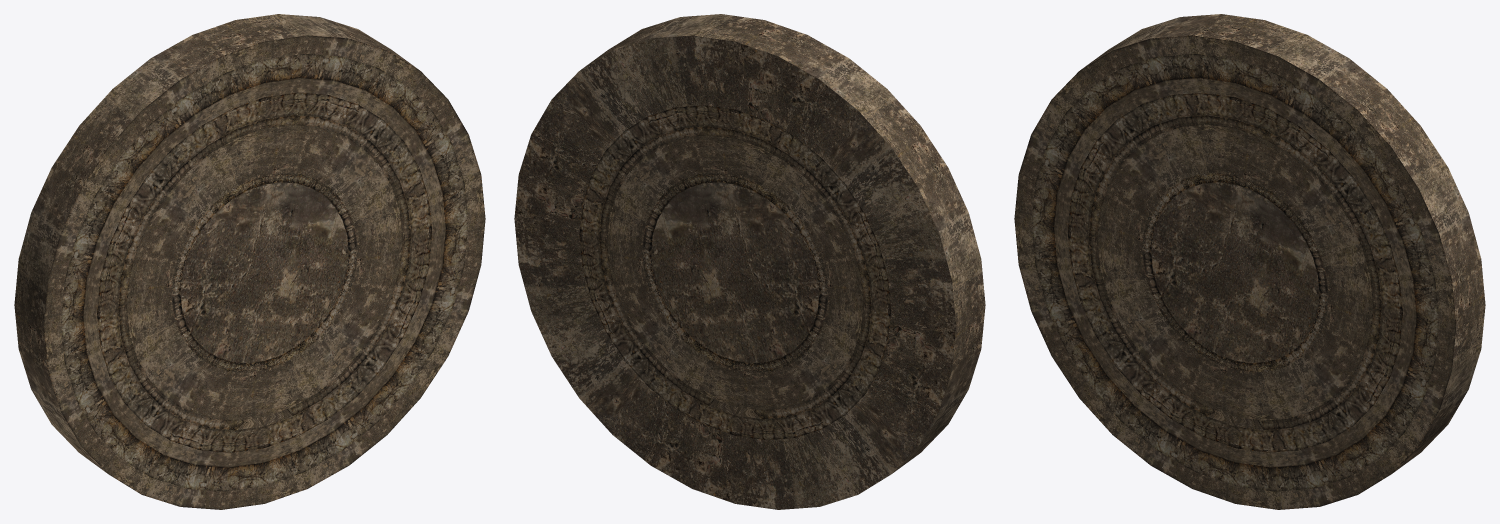
Rendered from materials_5_decoration_plate_9.fbx.
The picture shows the model from 3 angles, left to right: view 1: azimuth 30°, elevation 25°; view 2: azimuth 150°, elevation 25°; view 3: azimuth 330°, elevation 25°; orthographic projection.
Visible parts, largest first — view 1: materials_5_decoration_plate_9; view 2: materials_5_decoration_plate_9; view 3: materials_5_decoration_plate_9.
Boxes of the visible parts, box(x1,y1,x2,y2) form: materials_5_decoration_plate_9: box(14, 14, 485, 509); materials_5_decoration_plate_9: box(514, 14, 985, 509); materials_5_decoration_plate_9: box(1014, 14, 1485, 509).
Bounding box in the file's own units: 118 × 118 × 13.53.
